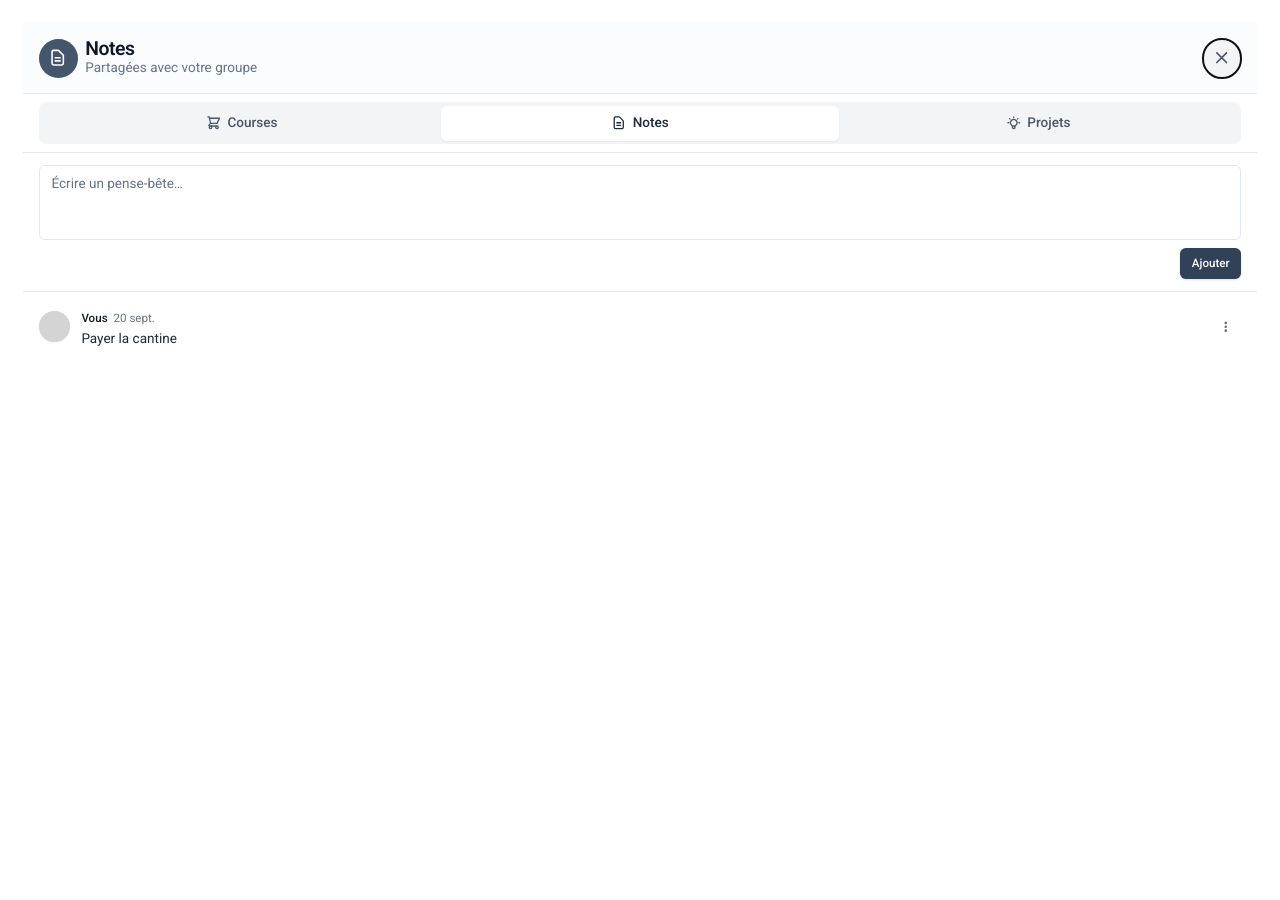
Scenario: NotesDrawer — onglets › chaque onglet n’affiche que ses lignes
The image size is (1280, 900).
Expected: the number of list items is 1, [39,311,1241,346]
Expected: the text "Payer la cantine" is shown, [81,330,177,346]
Click the tab "Courses": (242, 123) [43,106,441,140]
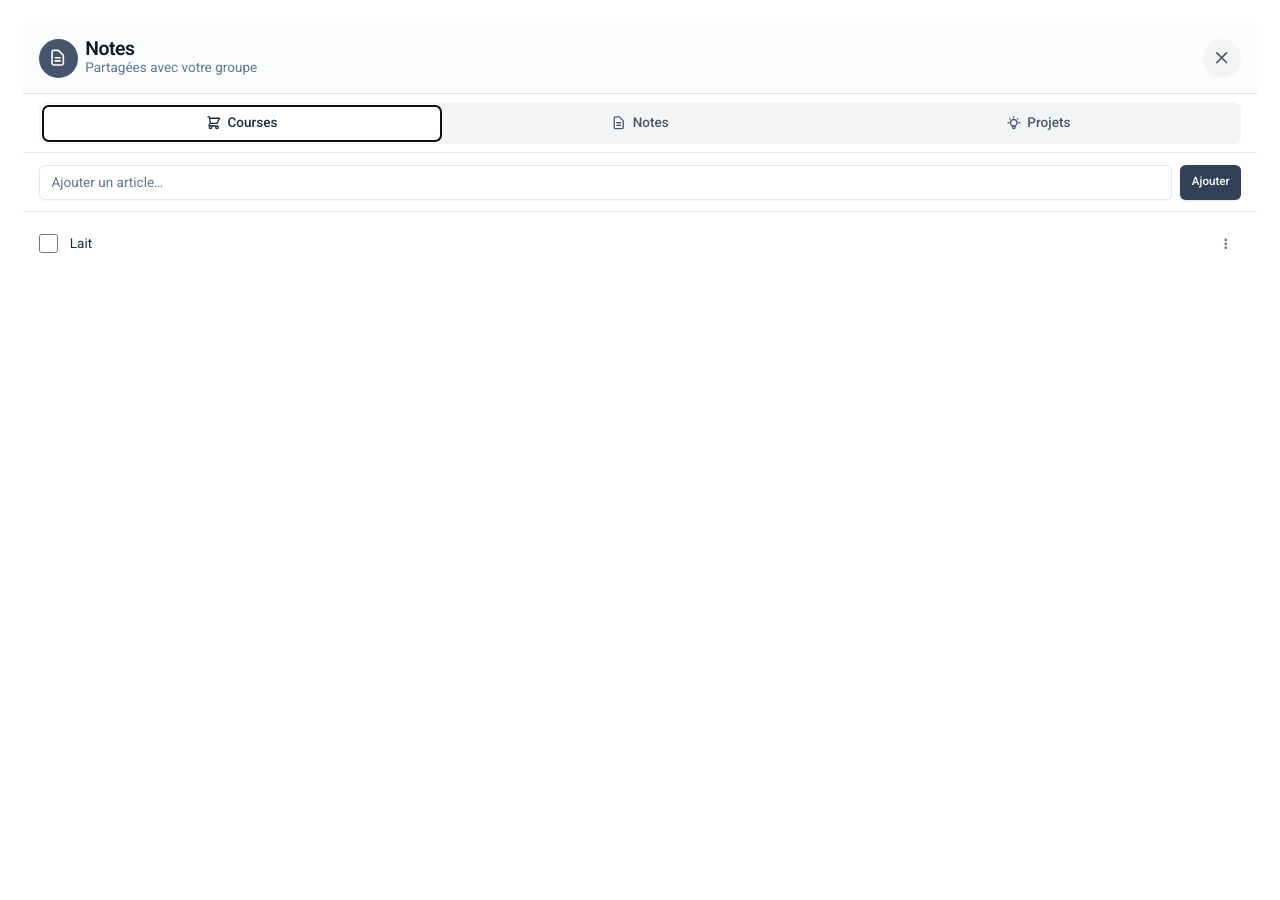
Expected: the number of list items is 1, [39,220,1241,266]
Now the text "Lait" is shown, box [70,235,92,251]
Click the tab "Projets": (1038, 123) [839,106,1237,140]
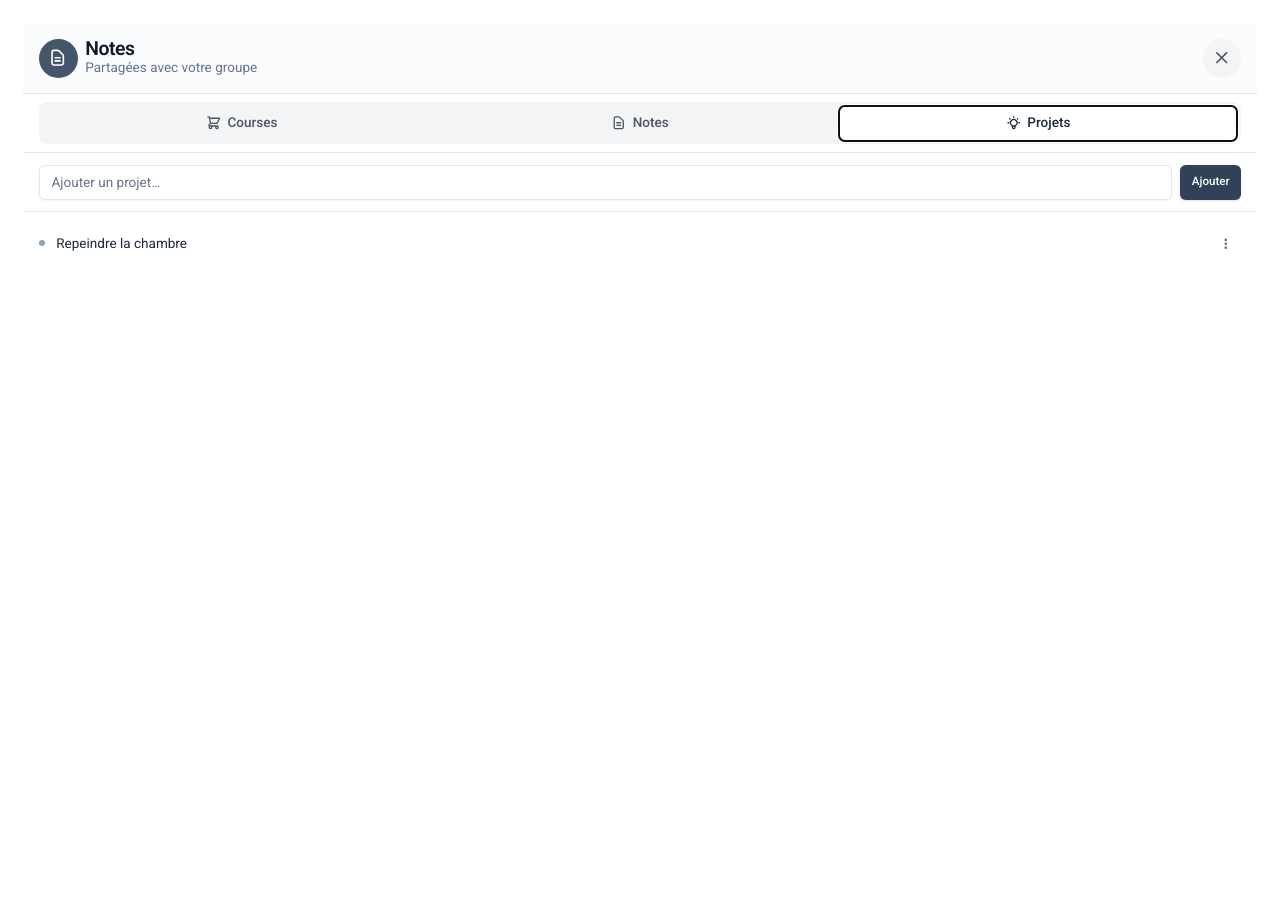
Expected: the number of list items is 1, [39,220,1241,266]
Now the text "Repeindre la chambre" is shown, box [56,235,187,251]
